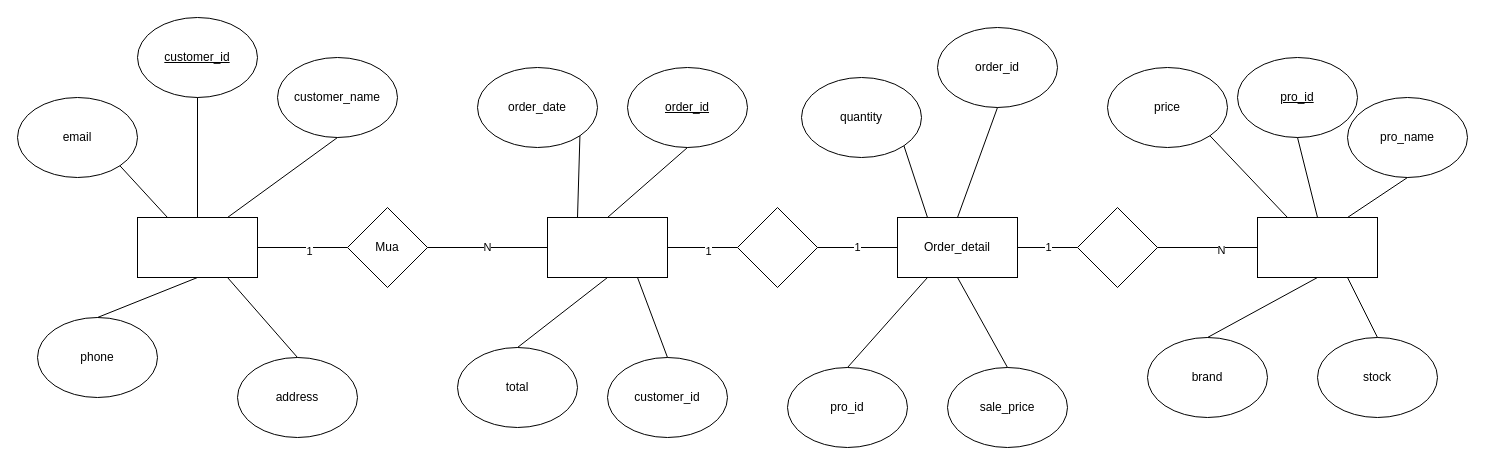
Some shapes in this 1485 by 465 pixel diagram are drawn without their labels. The shapes that lost their labels are listed below. From the top down, each one's centre as x and y in pixels, then its label:
the point at 197,247: Customer
the point at 607,247: Order
the point at 777,247: Có
the point at 1117,247: Gồm
the point at 1317,247: Product
